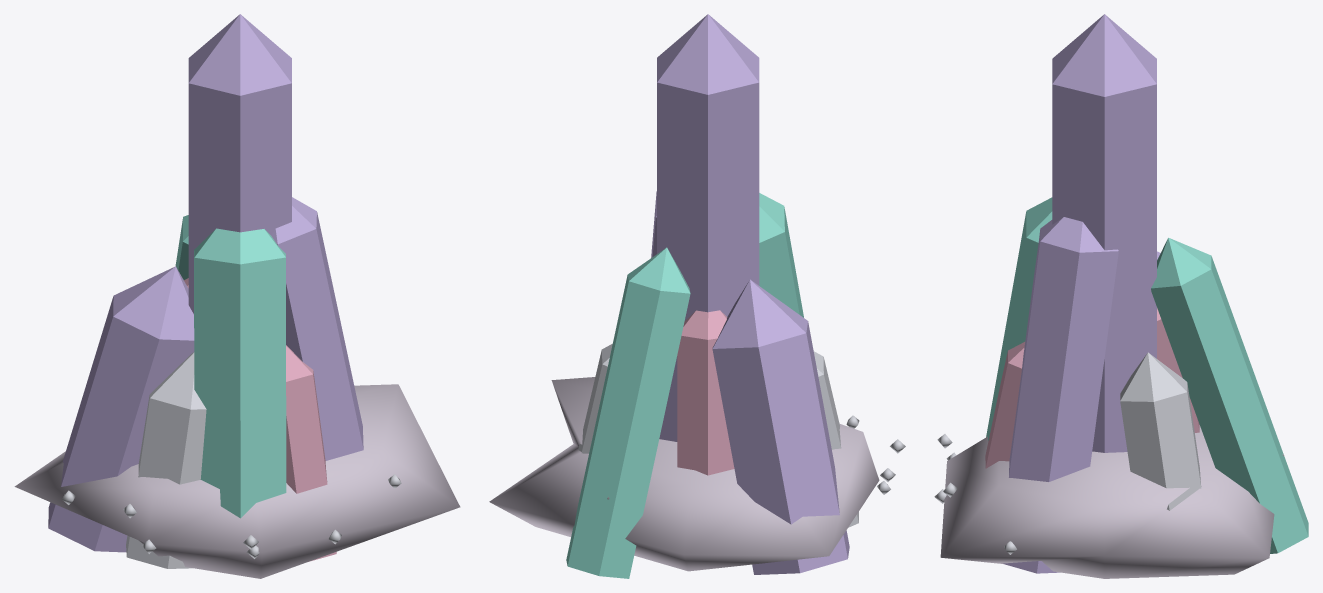
File: pool_glow_crystal.gltf
3 renders of one model, left to right at view 1: azimuth 30°, elevation 25°; view 2: azimuth 150°, elevation 25°; view 3: azimuth 270°, elevation 25°, orthographic. The views are drawn at different scales.
Visible parts, largest first — view 1: pool_glow_crystal; view 2: pool_glow_crystal; view 3: pool_glow_crystal.
Part boxes in pixels (x1,y1,x2,y2): pool_glow_crystal: (14, 14, 460, 578); pool_glow_crystal: (489, 14, 905, 578); pool_glow_crystal: (934, 14, 1308, 578).
Size of what is drawn, in the model's own units: 0.7138 by 1.04 by 0.6708.
